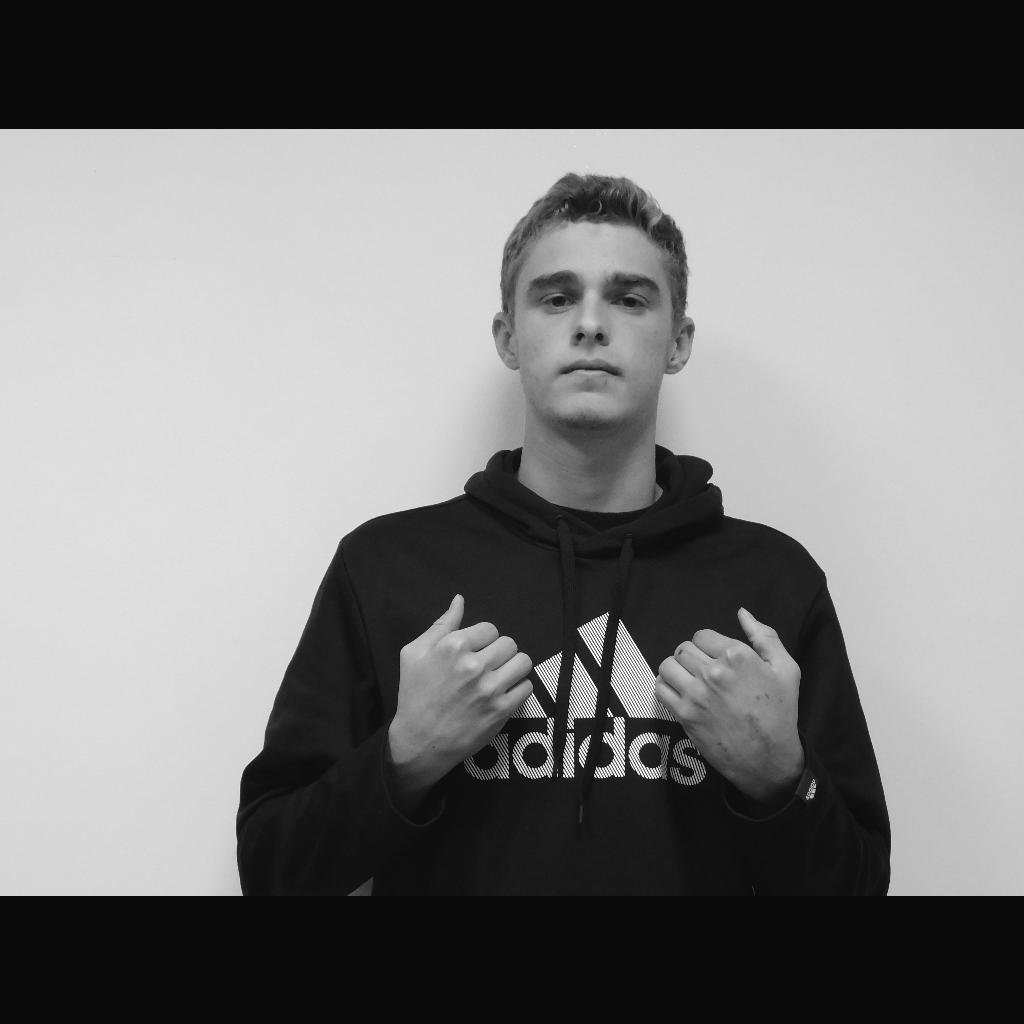have: (396, 593, 802, 775)
